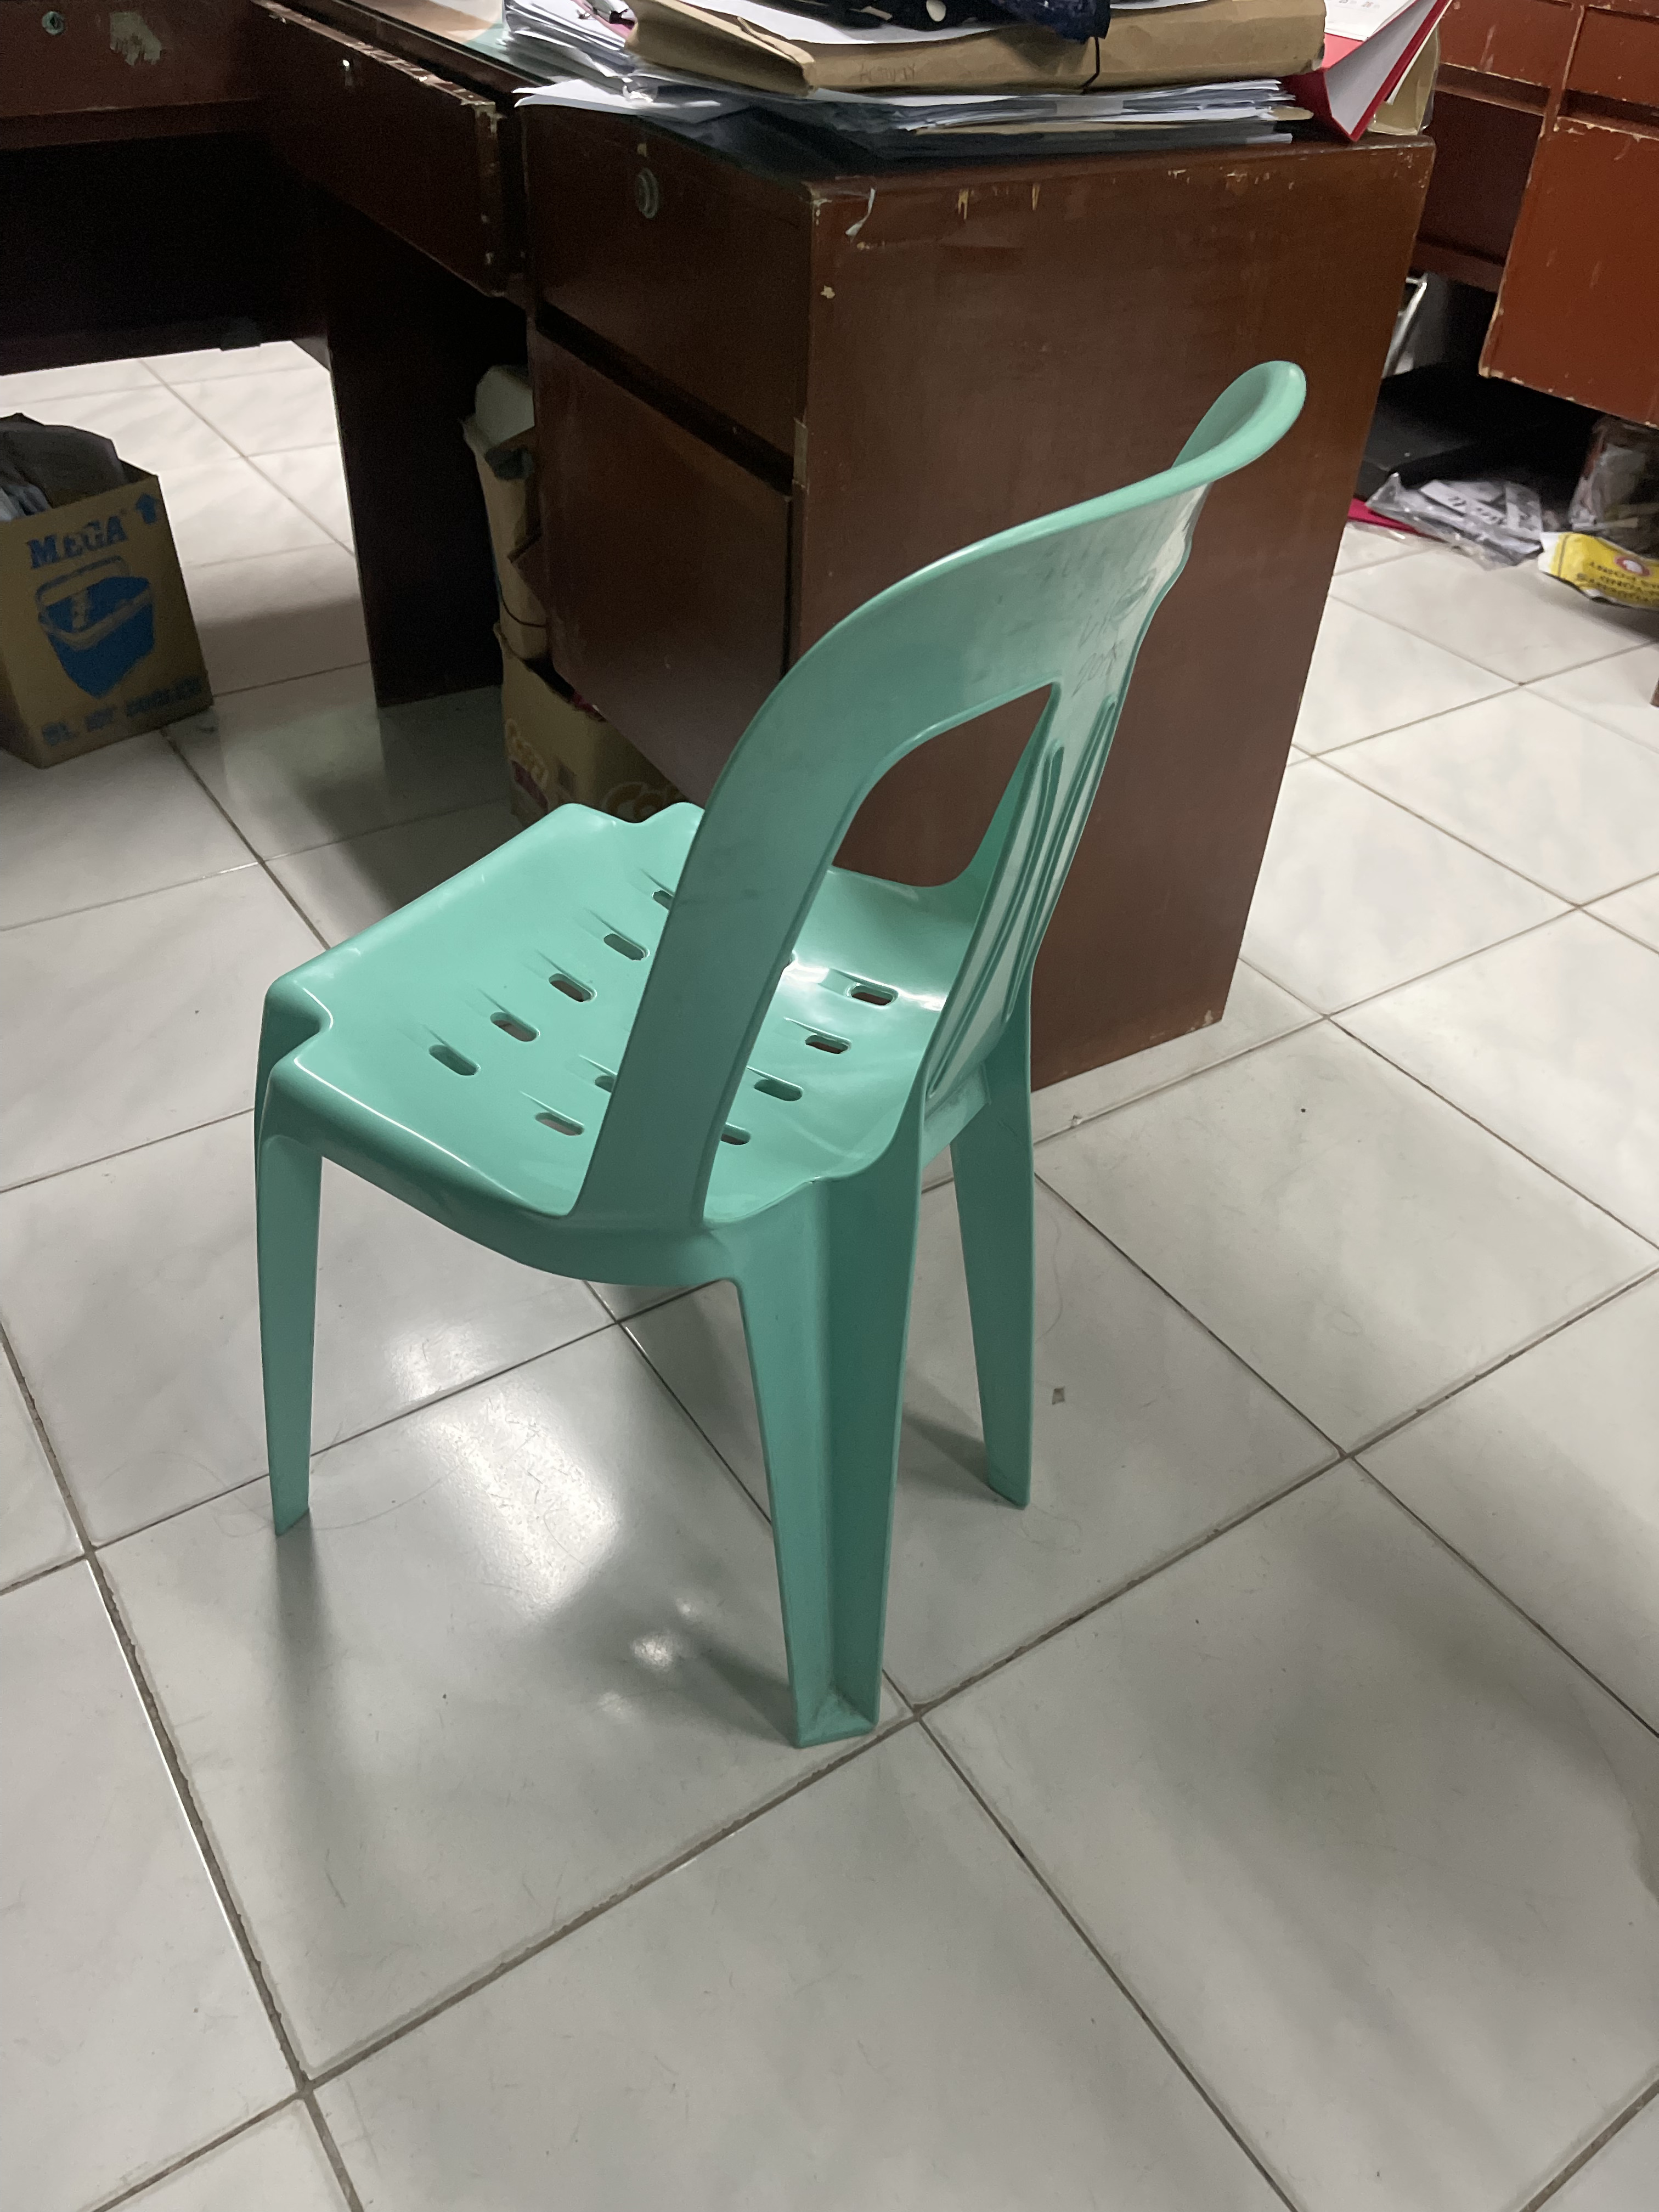chair2: (218, 354, 1321, 1750)
